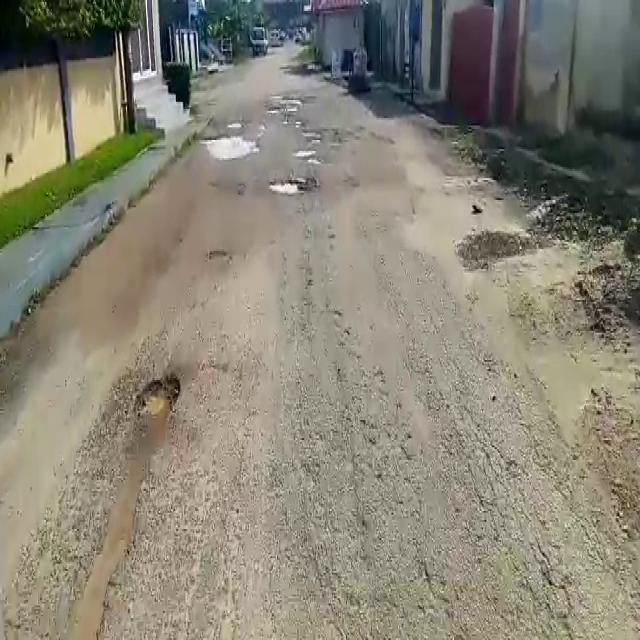Pothole: (138, 375, 178, 424), (204, 130, 256, 158), (266, 179, 308, 197), (296, 149, 324, 160)
